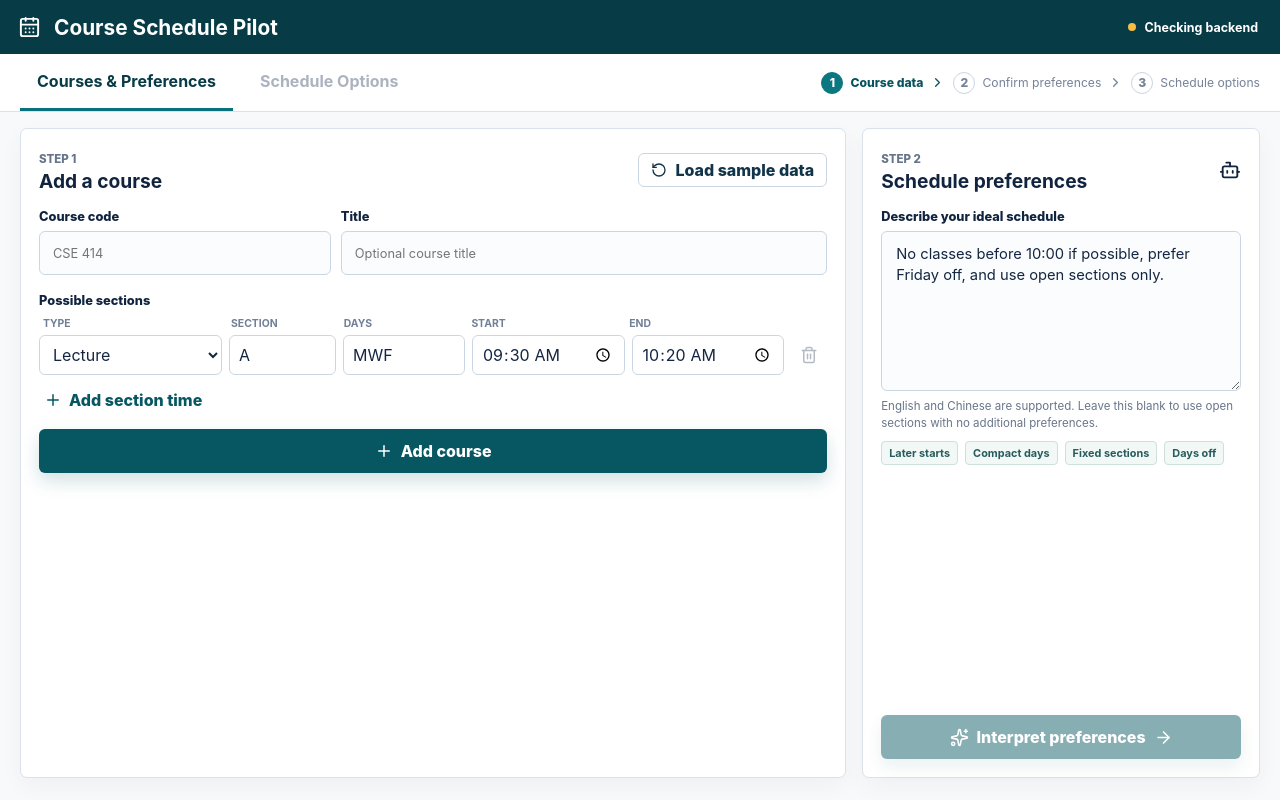
Test case: App › loads sample data and immediately displays its course summary
What coordinates should you click on to do the following:
click the button "Load sample data"
I would click on:
 (733, 170)
Its box is [638, 153, 827, 187].
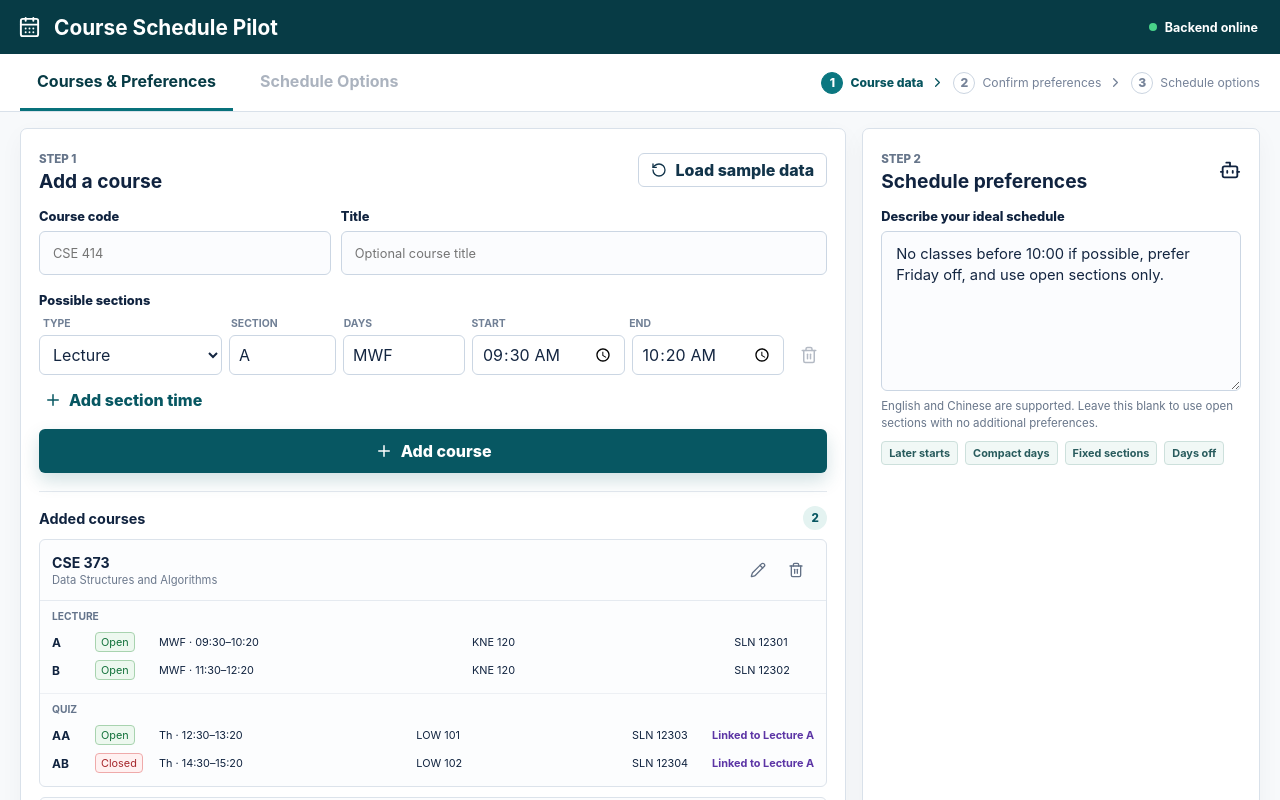
Expected: the heading "Added courses" is shown, [39, 510, 145, 526]
Expected: the heading "CSE 373" is shown, [52, 554, 110, 570]
Expected: the text "Linked to Lecture A" is shown 2 times, [712, 728, 814, 742]; [712, 756, 814, 770]
